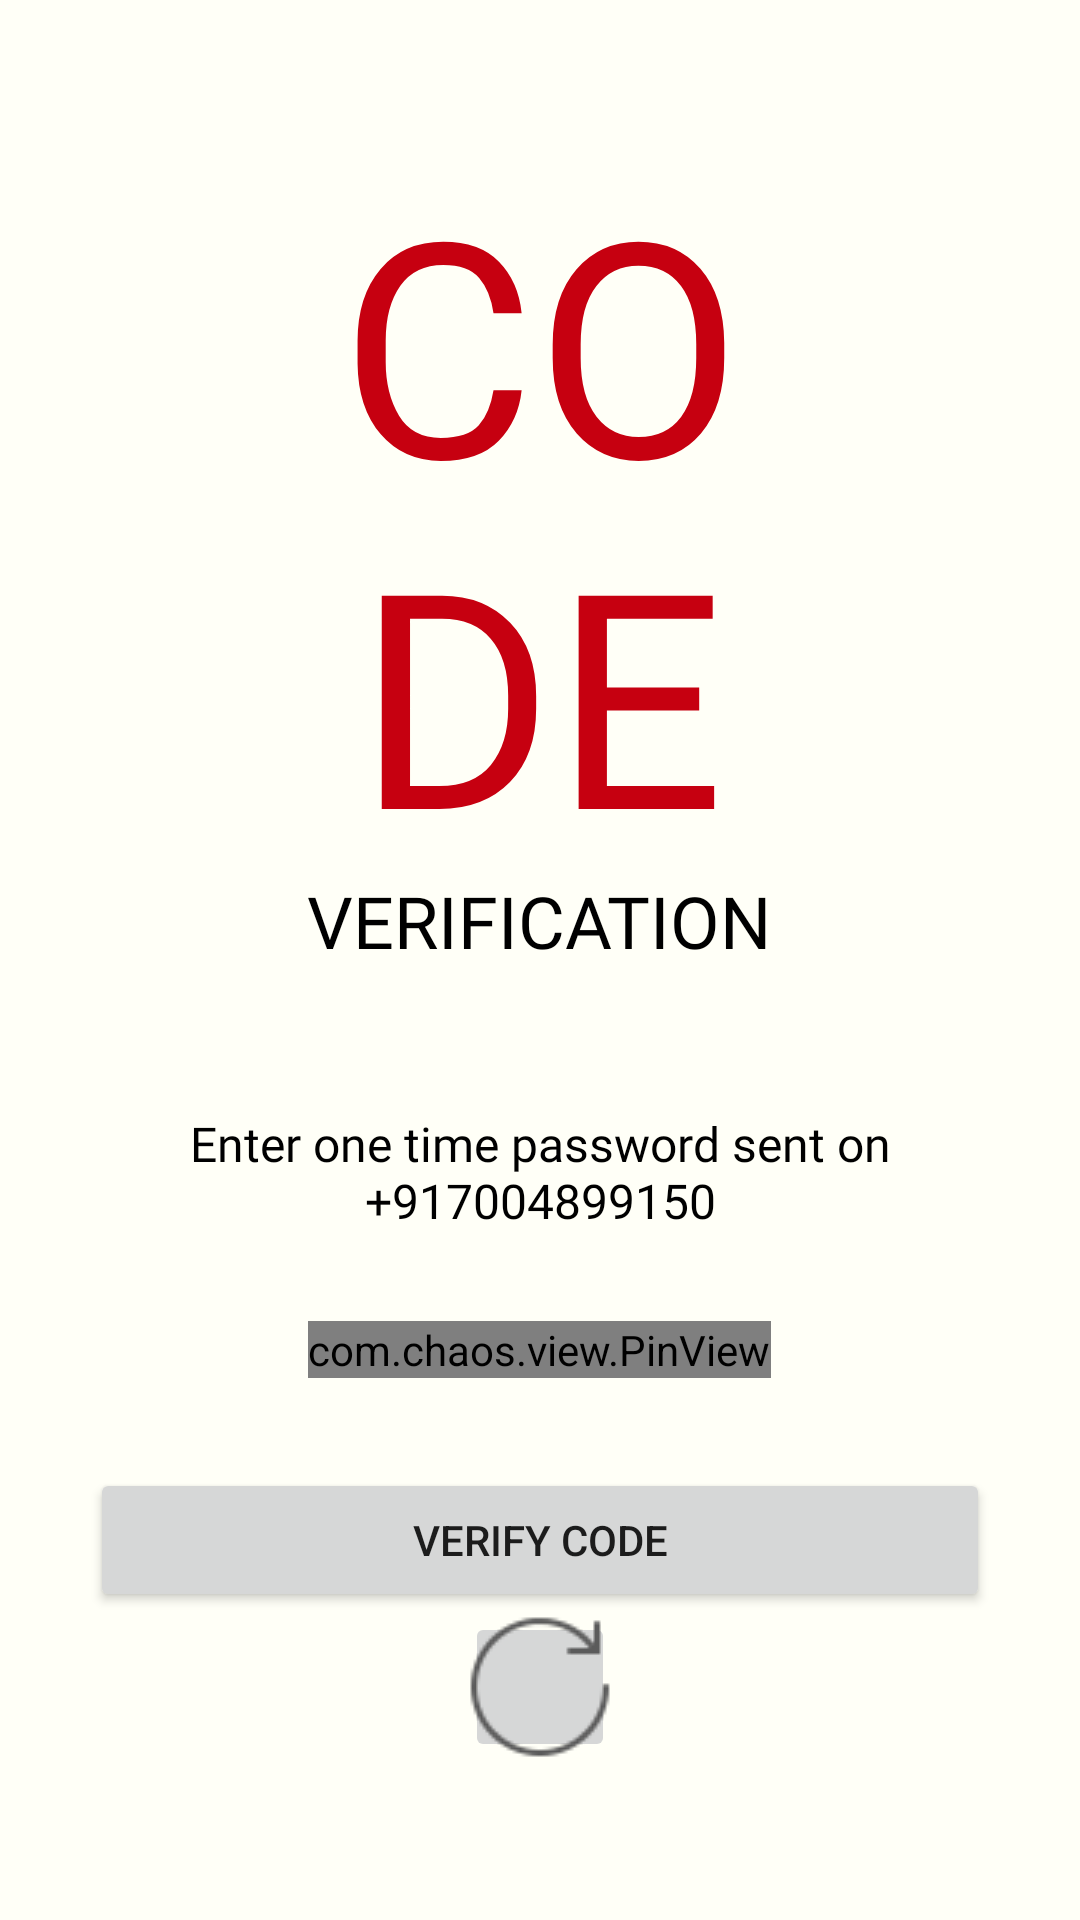

Named icons in this screenshot (1080*1920) and their bounding boxes, (x1=x1, y1=y1, x2=x2, y2=y2):
reset: (x1=470, y1=1617, x2=610, y2=1757)
